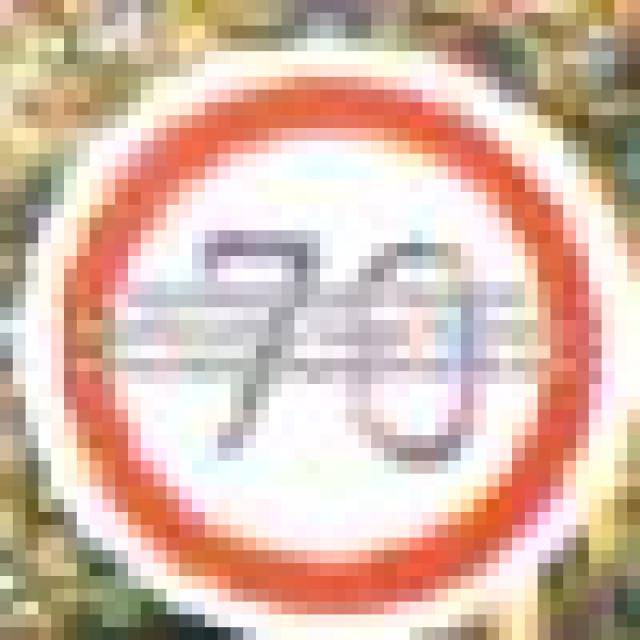SPEED_LIMIT_70: (26, 51, 627, 627)
